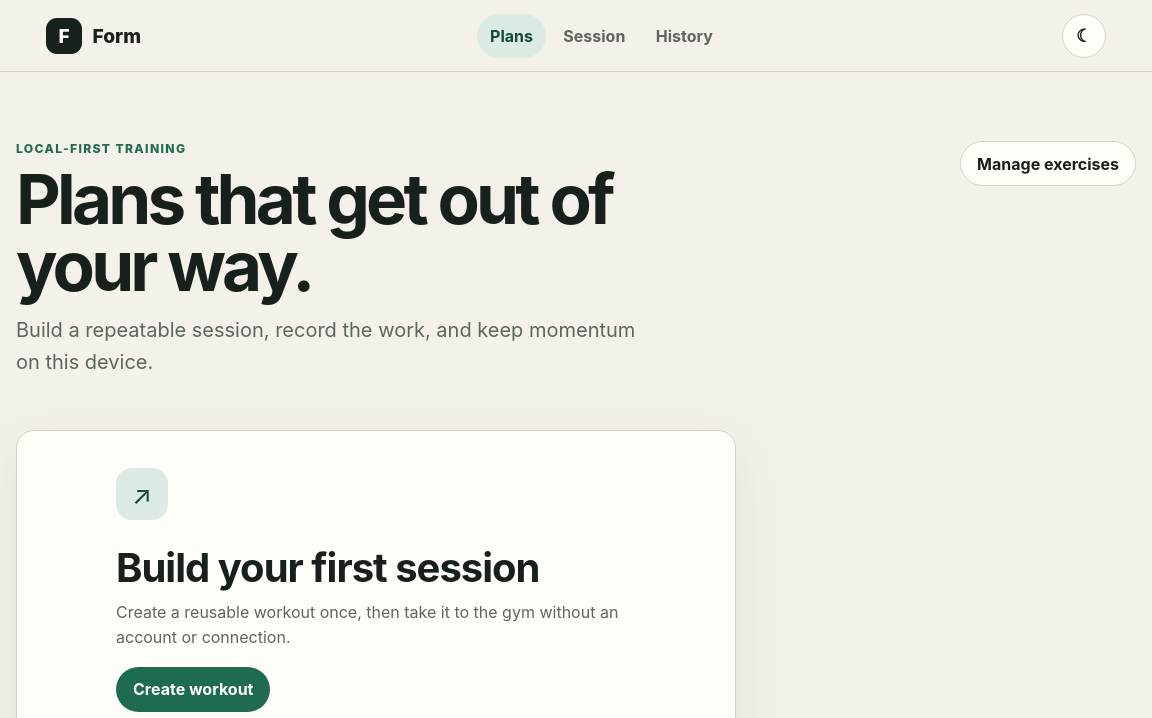
Test case: Custom Exercises — US1: Create a Custom Exercise › C4: shows duplicate error when name matches a predefined exercise
This screenshot has width=1152, height=718.
Click the button "Manage exercises" at (1048, 164), box [960, 141, 1136, 186]
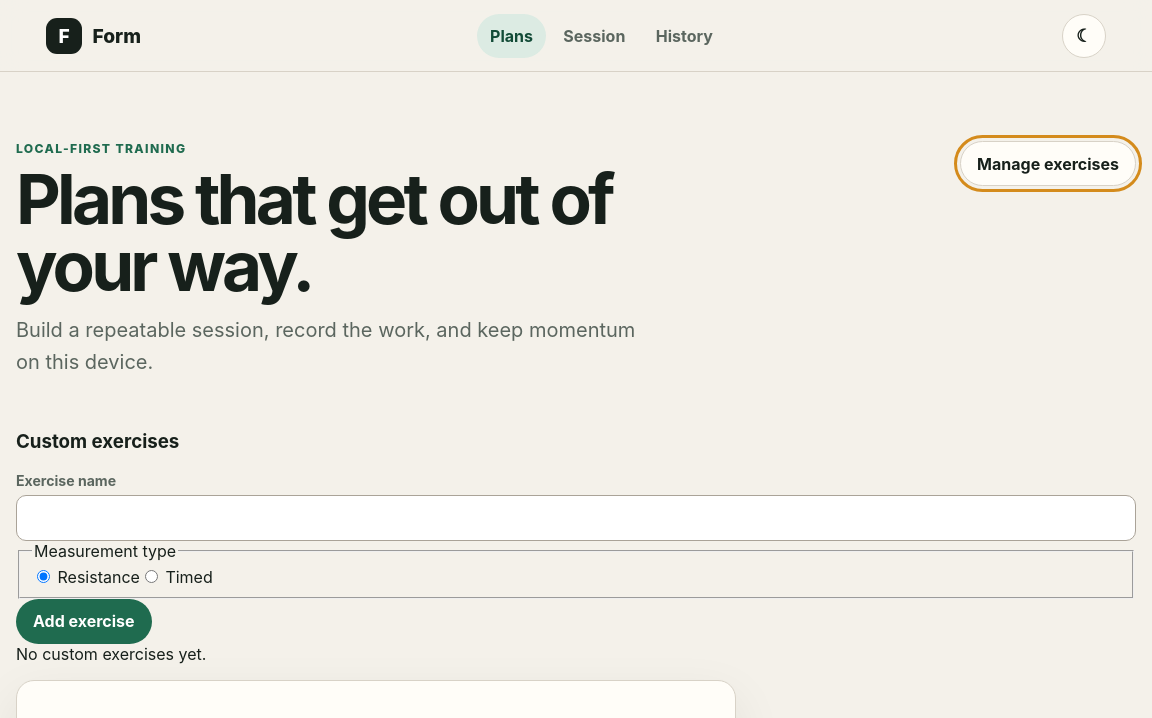
Type "Bench press" into the field labelled "Exercise name" at (576, 518), box [16, 495, 1136, 541]
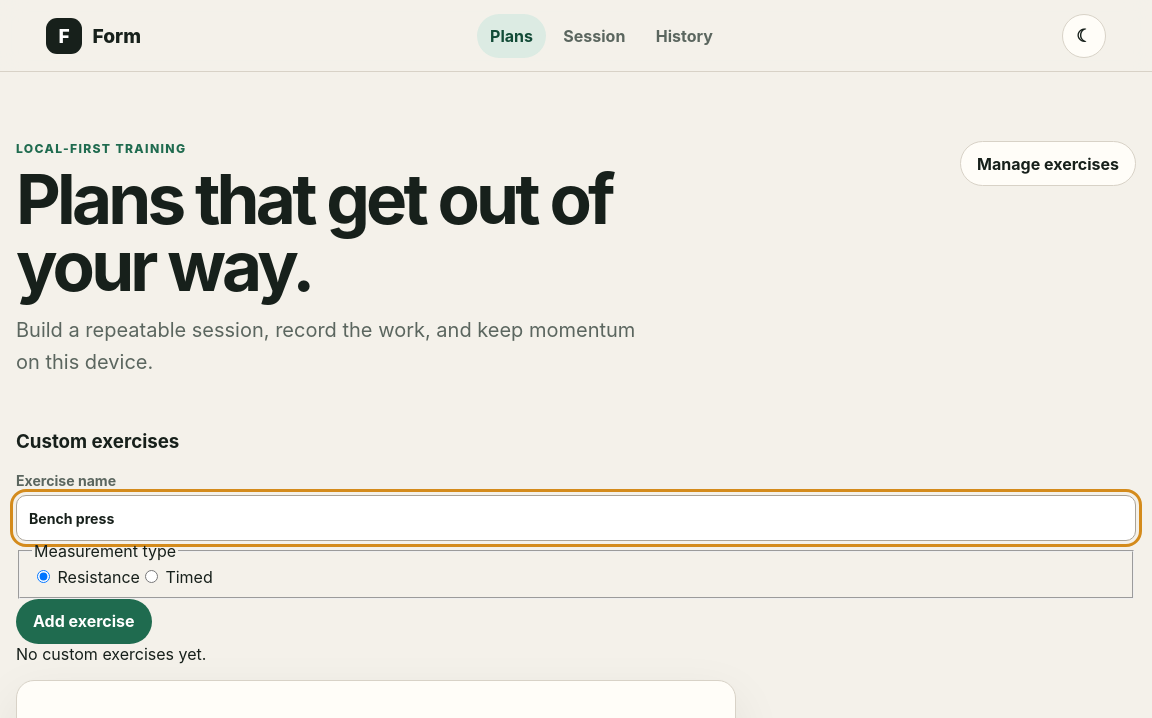
Click the button "Add exercise" at (84, 621), box [16, 599, 152, 644]
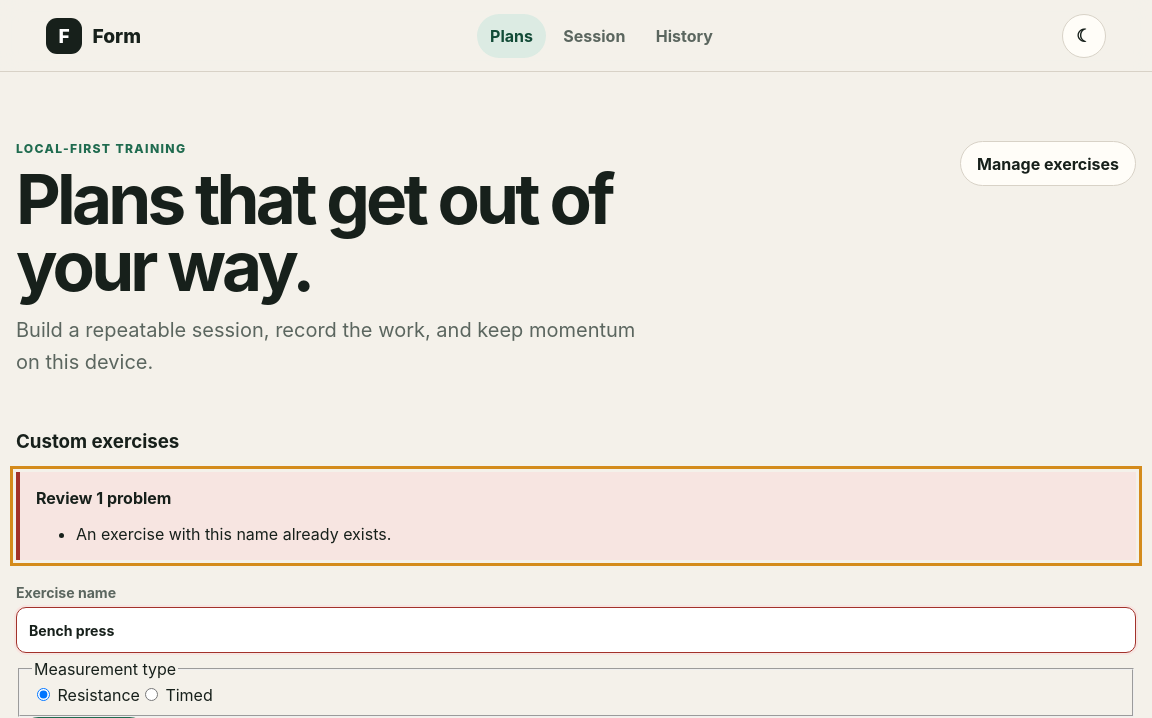
expect the list item "An exercise with this name already exists." is shown: met, box [76, 524, 391, 544]
